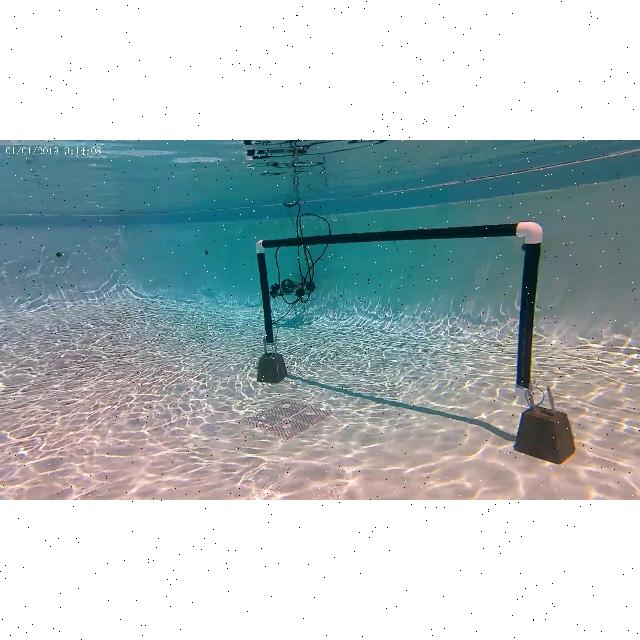prequal gate: (255, 222, 543, 396)
prequal gate leg l: (254, 236, 284, 354)
prequal gate leg r: (508, 223, 544, 393)
